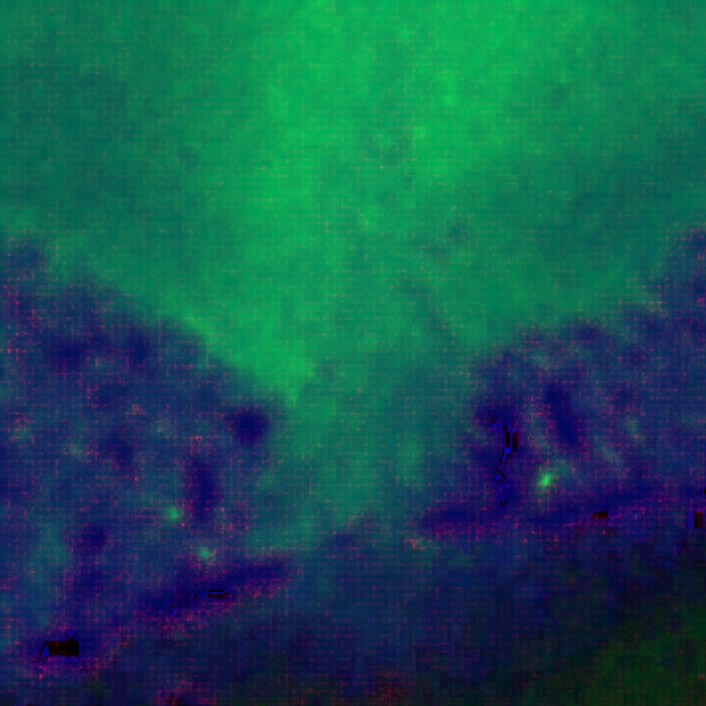rip_current: (183, 65, 515, 509)
